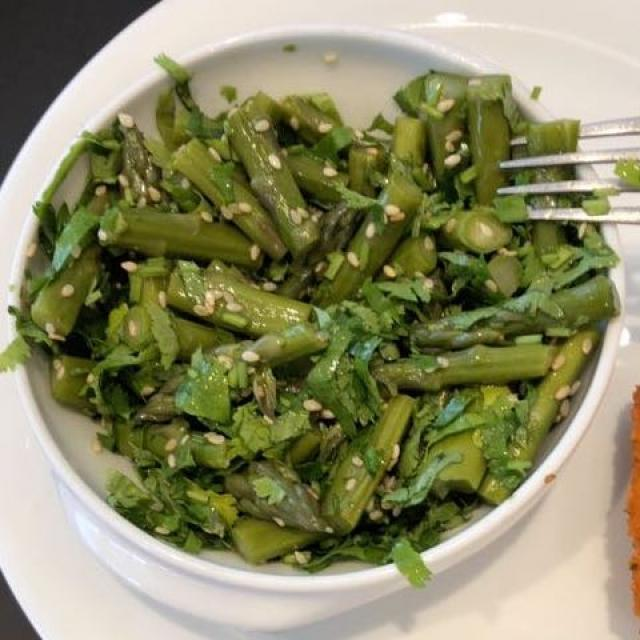asparagus: (22, 74, 613, 563)
sesame-seeds: (103, 78, 542, 518)
